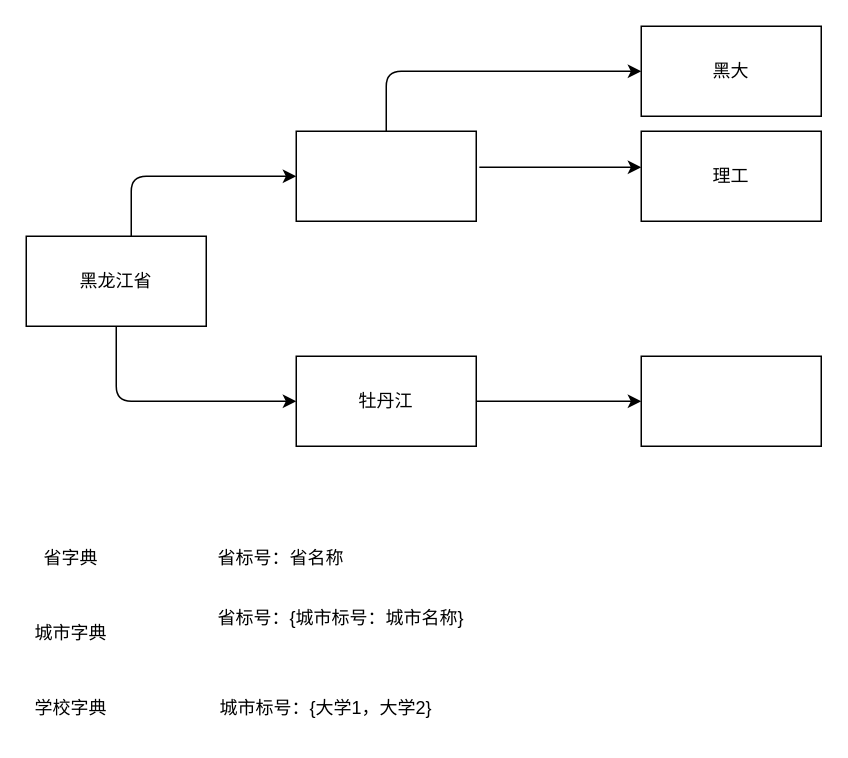
This 848x758 diagram has some shape labels left out. The box of each missing label's shape, as (x1, y1, x2, y2) in pixels:
哈尔滨: (295, 130, 476, 221)
牡丹江师范学院: (640, 355, 821, 446)
